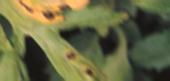Tomato leaf bacterial spot: (0, 0, 117, 81)
